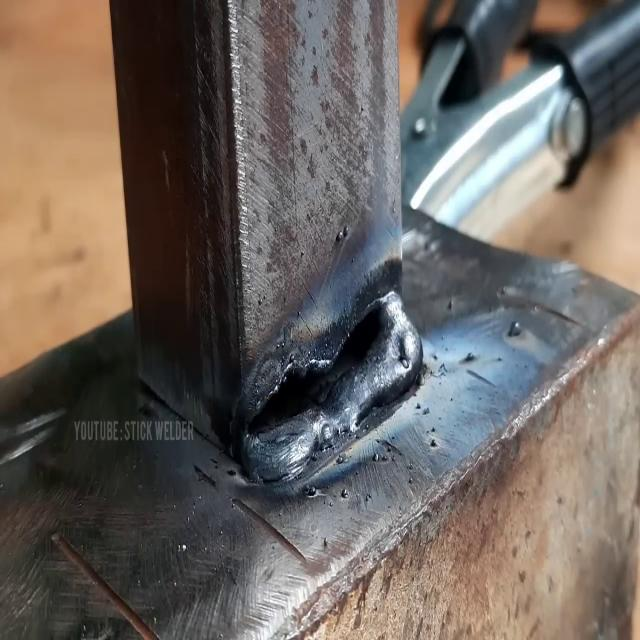Bad Welding: (234, 246, 443, 486)
